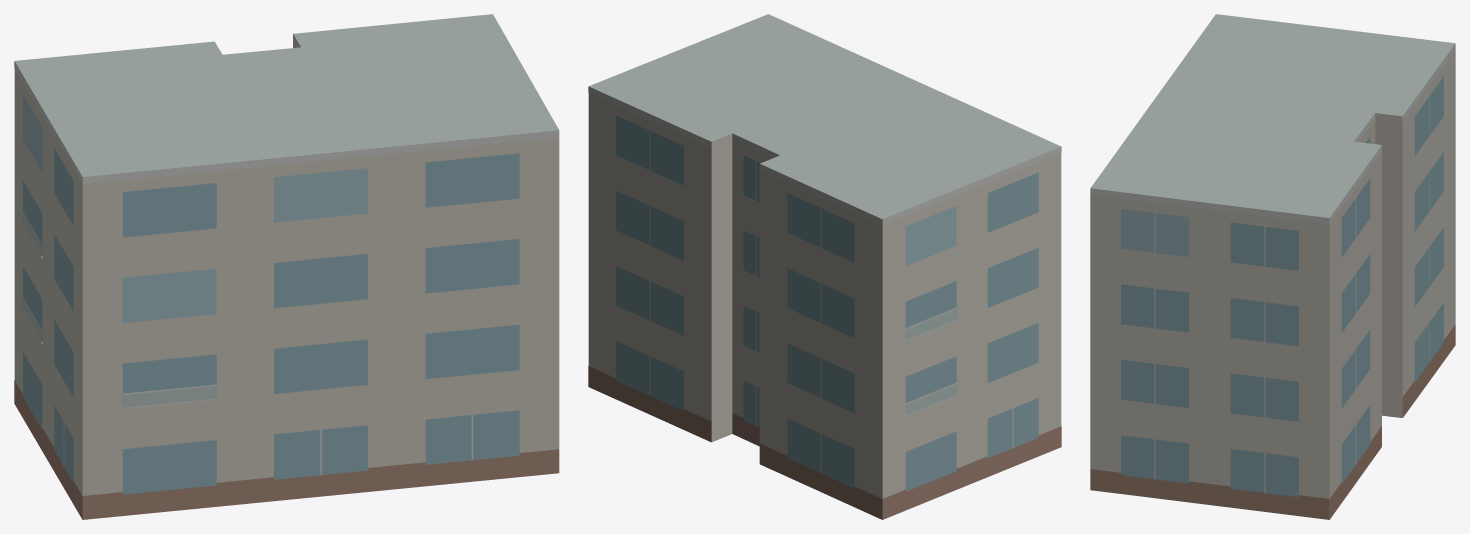
File: survey-upis-32875425.glb
The picture shows the model from 3 angles, left to right: view 1: azimuth 30°, elevation 25°; view 2: azimuth 150°, elevation 25°; view 3: azimuth 270°, elevation 25°; orthographic projection. The views are drawn at different scales.
Parts seen in each view (by area): view 1: survey-upis-32875425.tmp; view 2: survey-upis-32875425.tmp; view 3: survey-upis-32875425.tmp.
Boxes of the visible parts, <box> form: survey-upis-32875425.tmp: <box>14,14,559,519</box>; survey-upis-32875425.tmp: <box>588,14,1061,519</box>; survey-upis-32875425.tmp: <box>1090,14,1455,519</box>.
Bounding box in the file's own units: 16.83 × 11.6 × 12.73.
